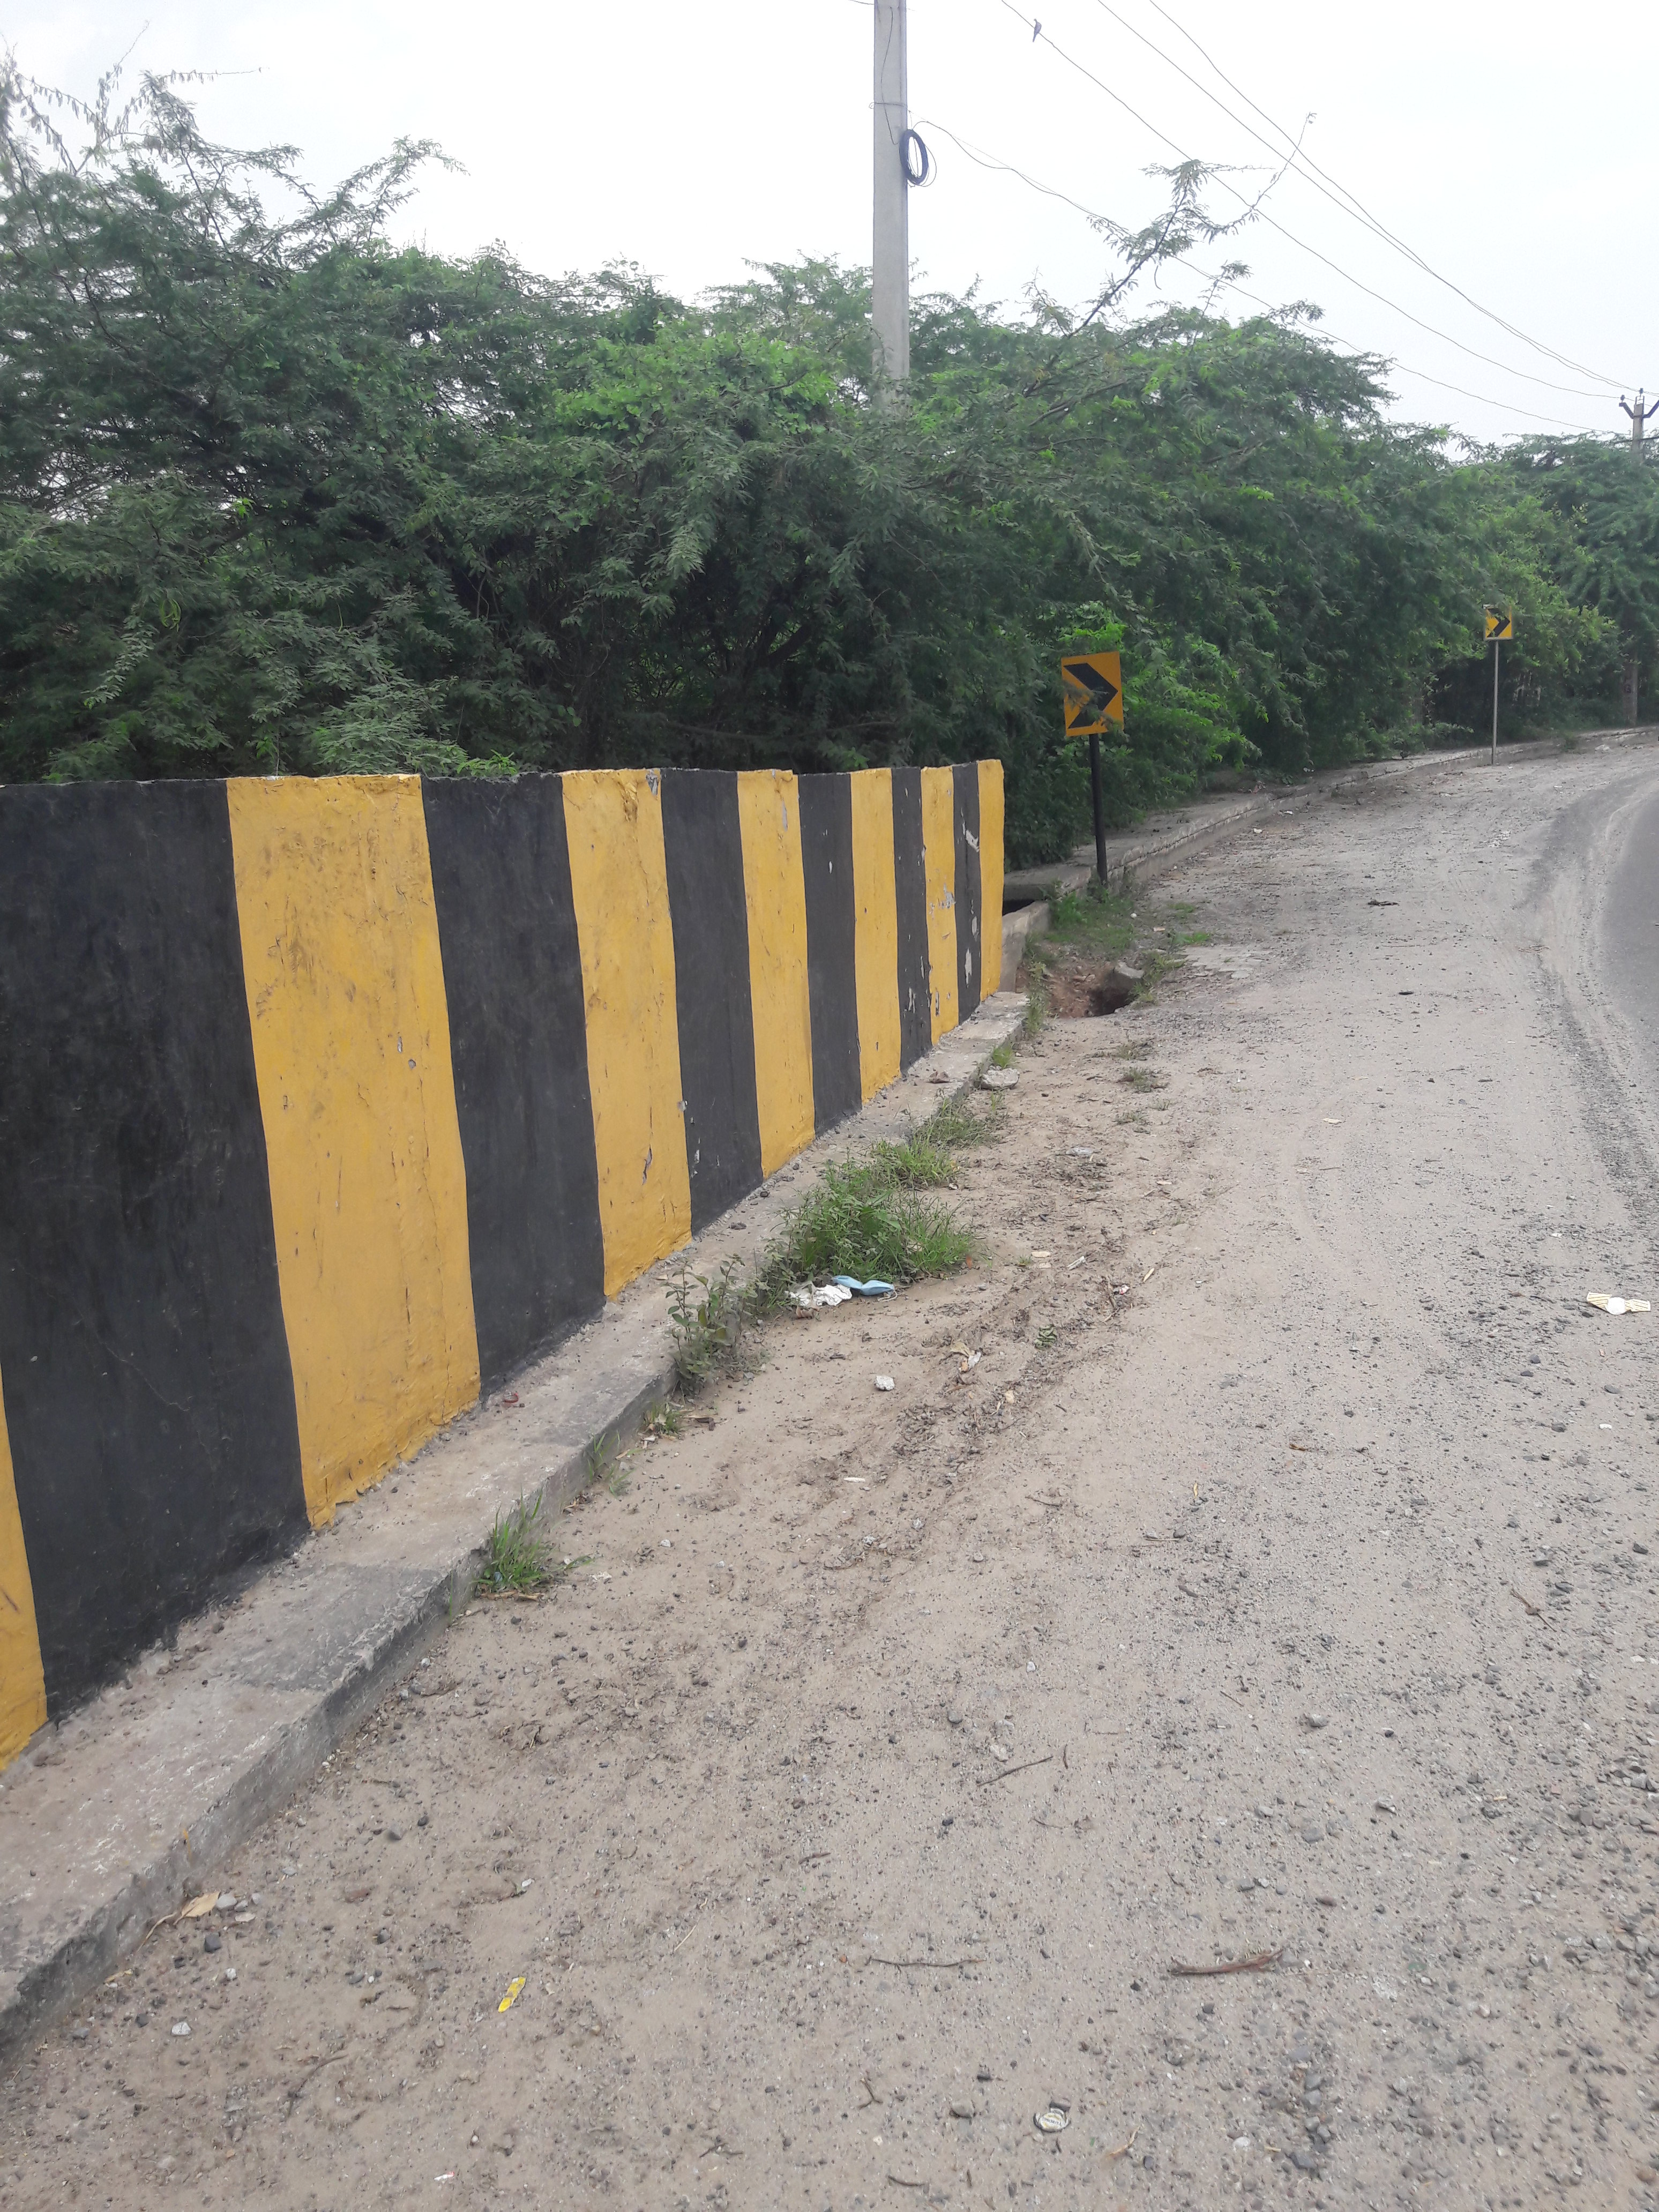traffic_sign: (1061, 648, 1124, 737), (1481, 604, 1513, 641)
